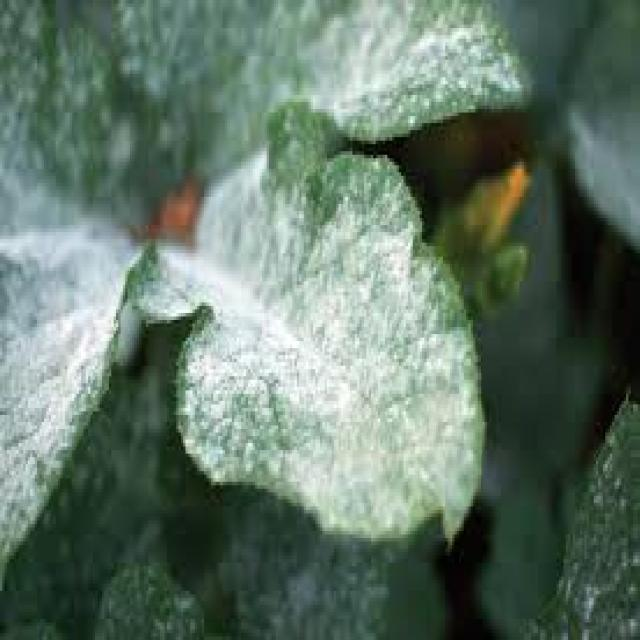powdery_mildew: (0, 11, 541, 578)
